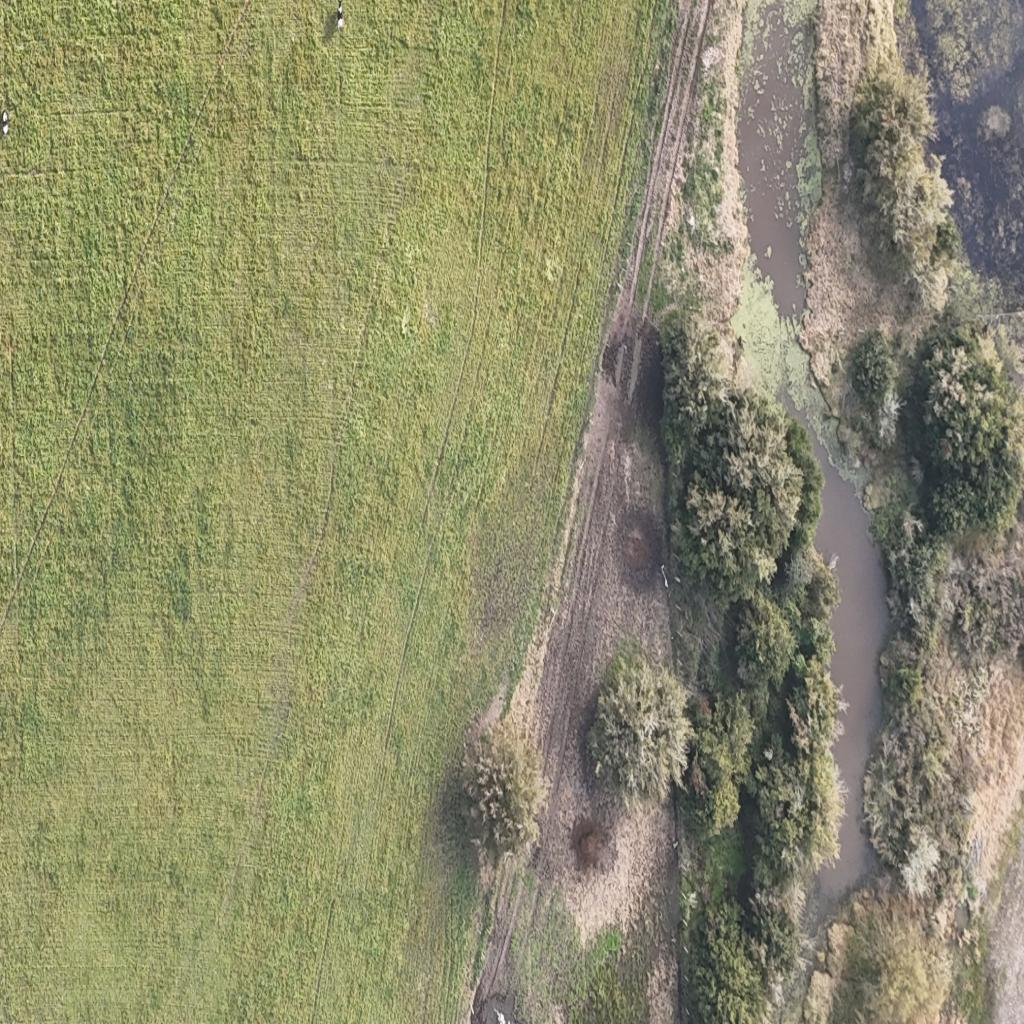cow: (1, 110, 10, 136), (336, 0, 344, 29)
